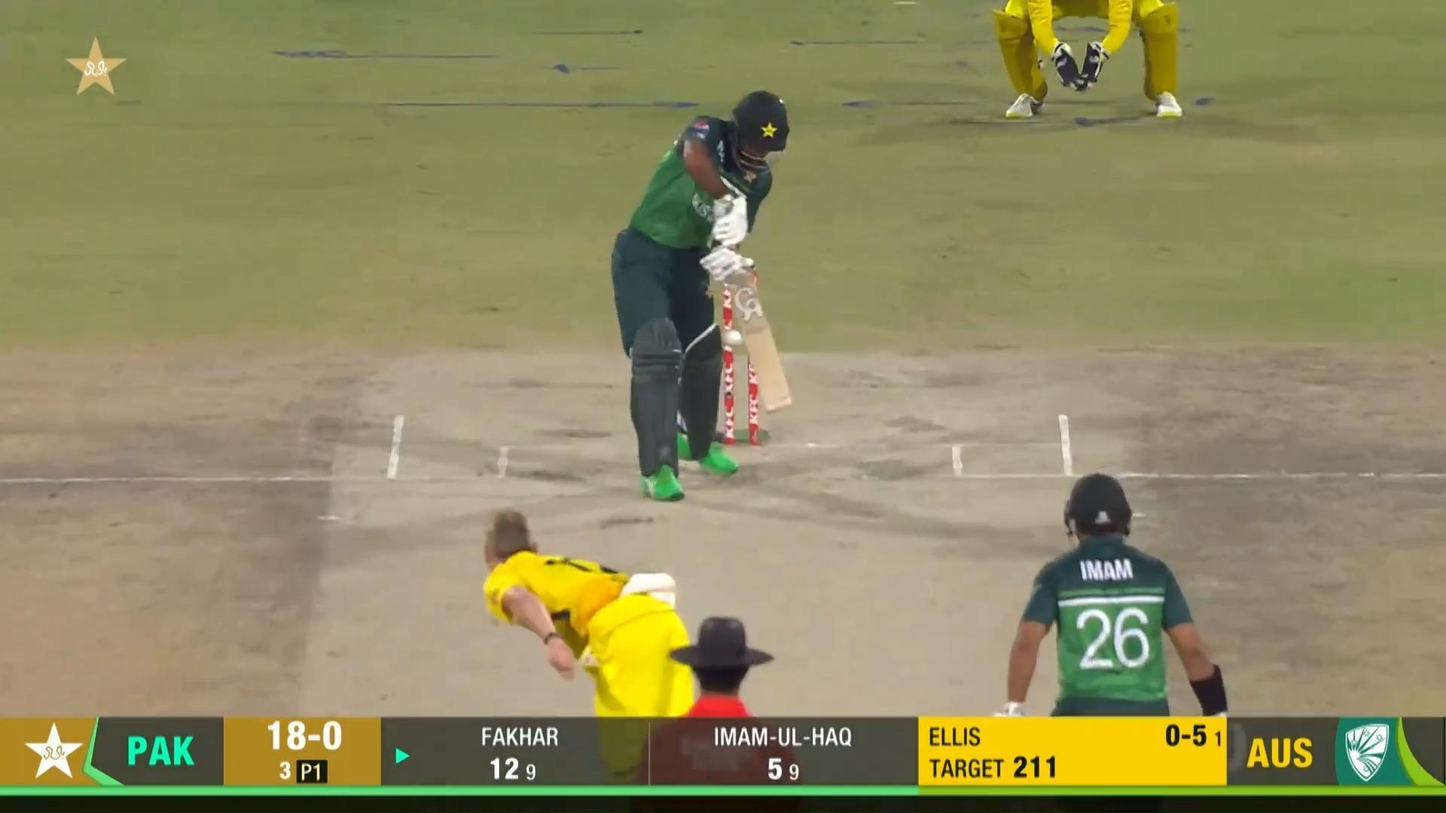BM 1: (609, 87, 798, 504)
BO: (484, 508, 696, 718)
